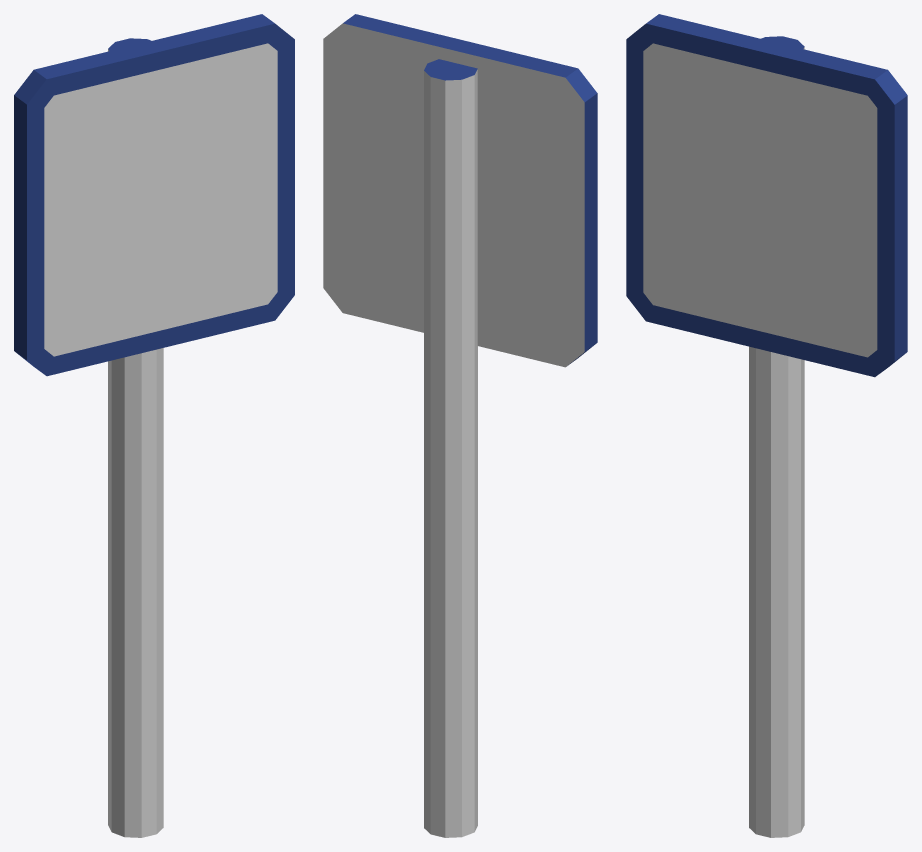
Rendered from Street Sign 1.fbx.
3 views of the same model, side by side, from view 1: azimuth 30°, elevation 25°; view 2: azimuth 150°, elevation 25°; view 3: azimuth 330°, elevation 25° (orthographic). The views are drawn at different scales.
Visible parts, largest first — view 1: Street_Sign_1; view 2: Street_Sign_1; view 3: Street_Sign_1.
Part boxes in pixels (x1,y1,x2,y2): Street_Sign_1: (14,14,294,837); Street_Sign_1: (323,14,597,837); Street_Sign_1: (626,14,907,837).
Bounding box in the file's own units: 38.94 × 110 × 8.57.
Materials: 1 (1 with a texture image).
